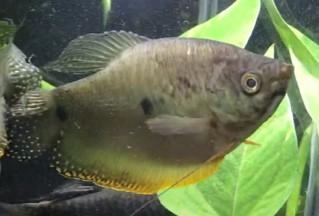Gourami: (10, 32, 297, 194)
